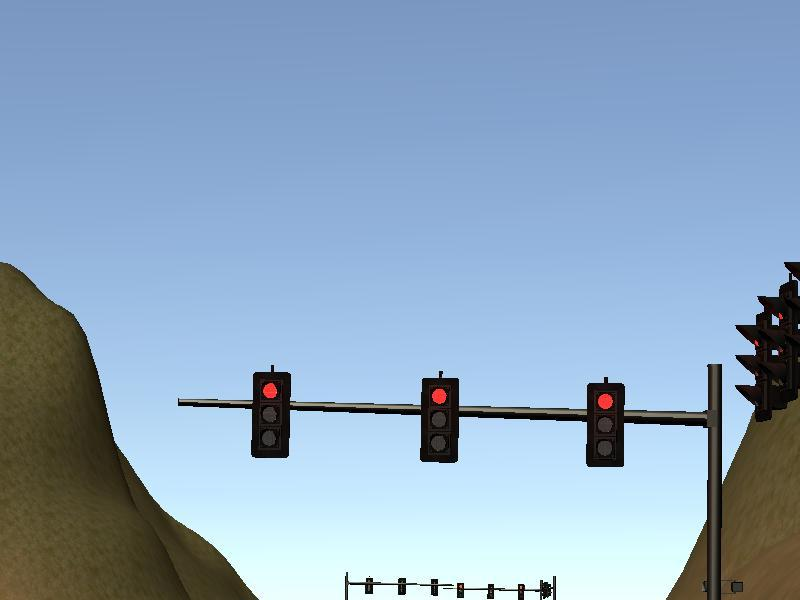Red: (588, 383, 624, 465), (254, 373, 288, 457), (423, 383, 459, 462)
